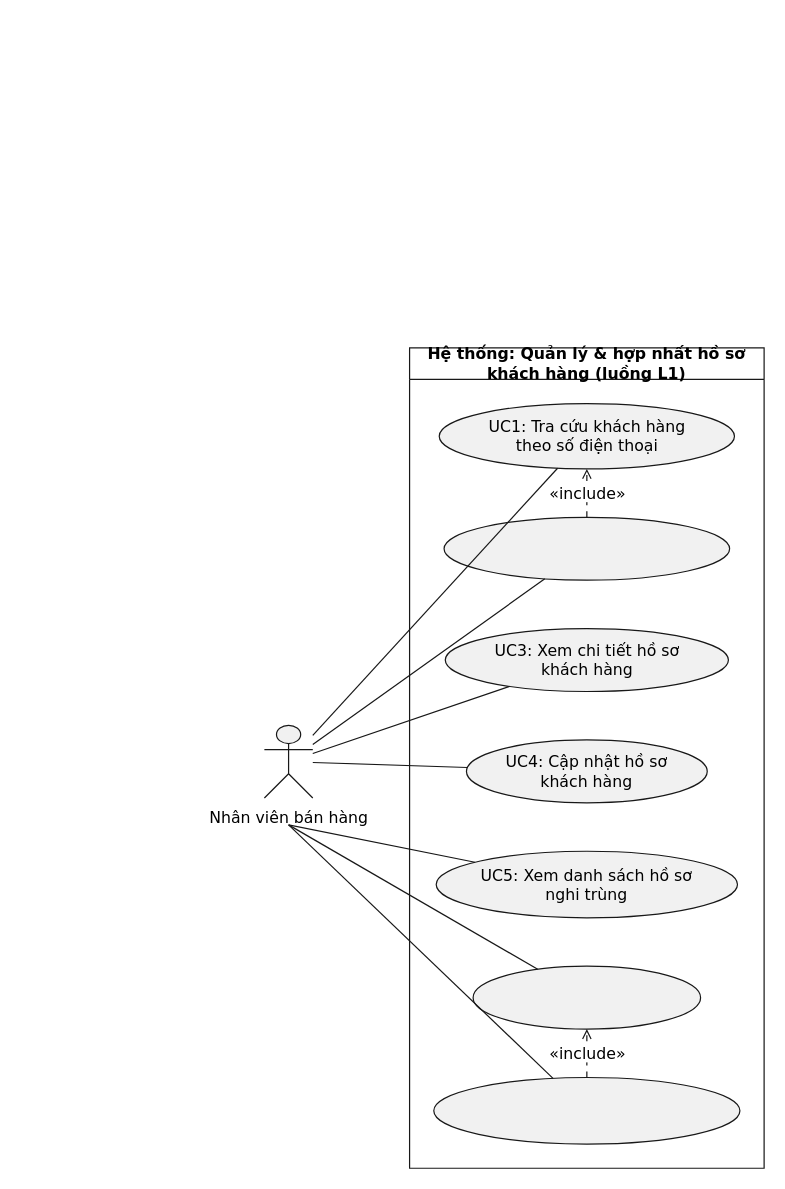
Some shapes in this 785 by 1189 pixel diagram are drawn without their labels. The centre of each missing label's shape, as x and y in pixels:
"UC2: Tạo hồ sơ khách hàng mới" goes at point (586, 548).
"UC6: So sánh hồ sơ nghi trùng" goes at point (586, 997).
"UC7: Gộp hồ sơ khách hàng trùng" goes at point (586, 1110).
